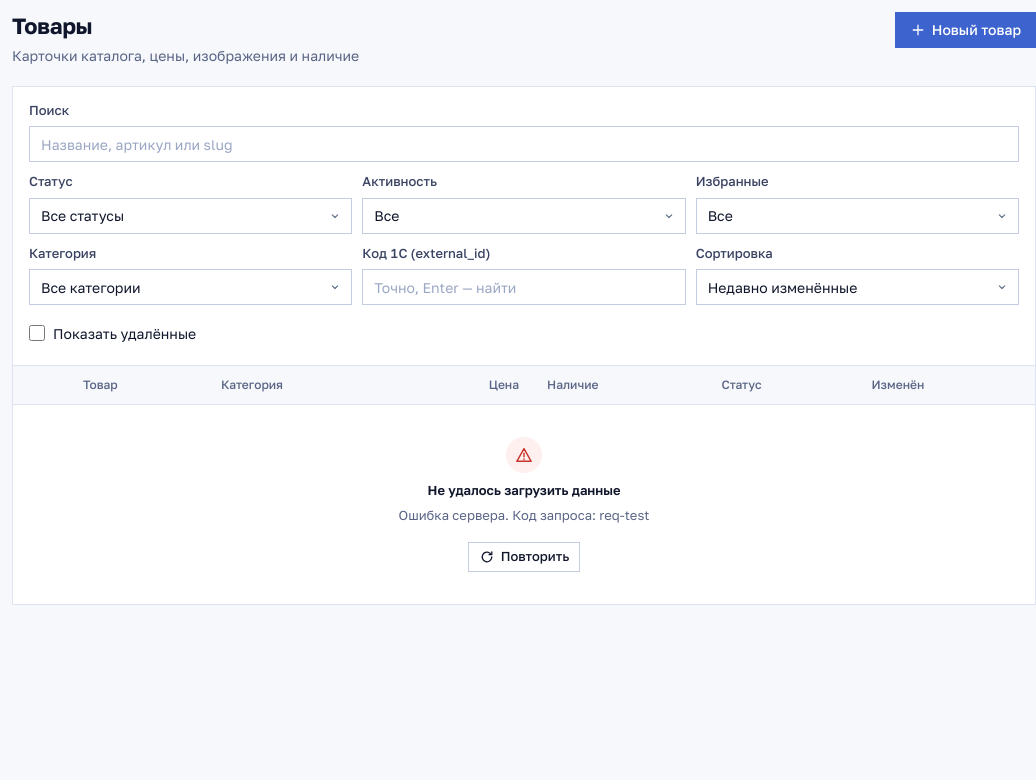
Test: список товаров › пустой каталог, ошибка с повтором, 403 и skeleton
Step 1. Click the button "Повторить" → (524, 557), box [468,542,580,572]
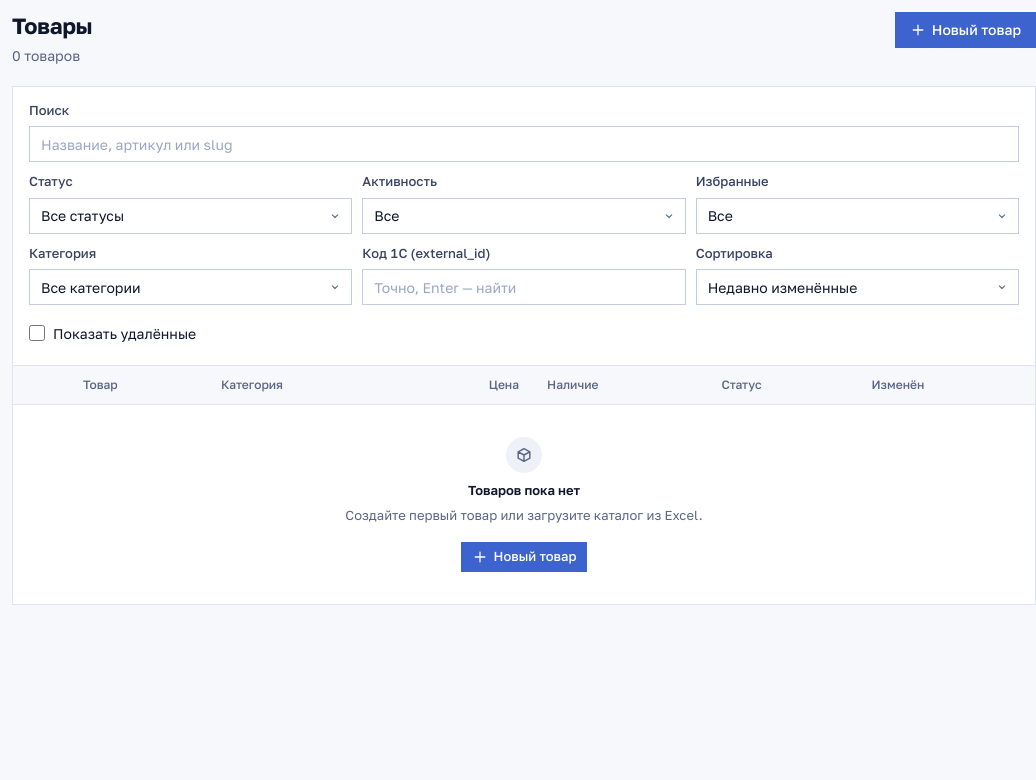
Check: the text "Товаров пока нет" is shown, box [468,481,580,500]
